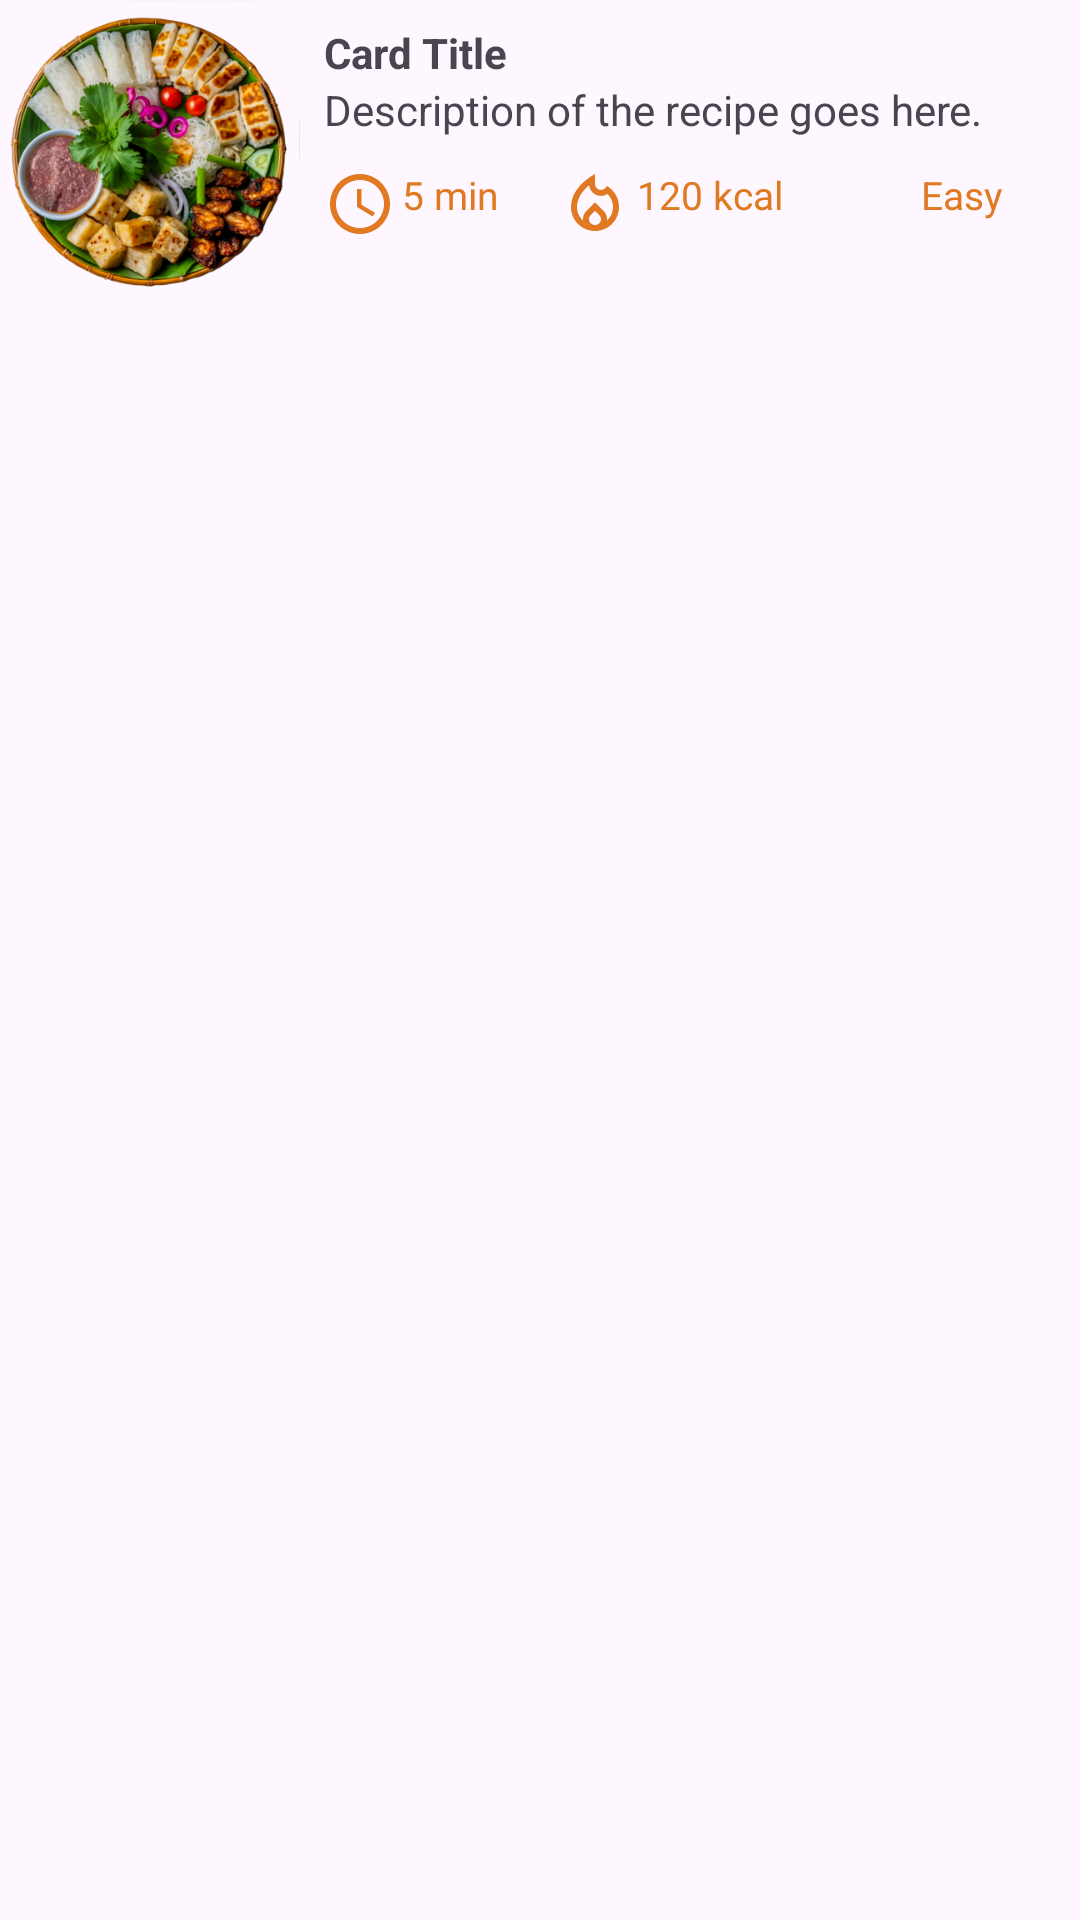

Icon bounding boxes for this 1080*1920 phone screenshot, format (x1, y1, x2, y2):
cooking time: (330, 174, 390, 234)
fire: (571, 174, 619, 231)
